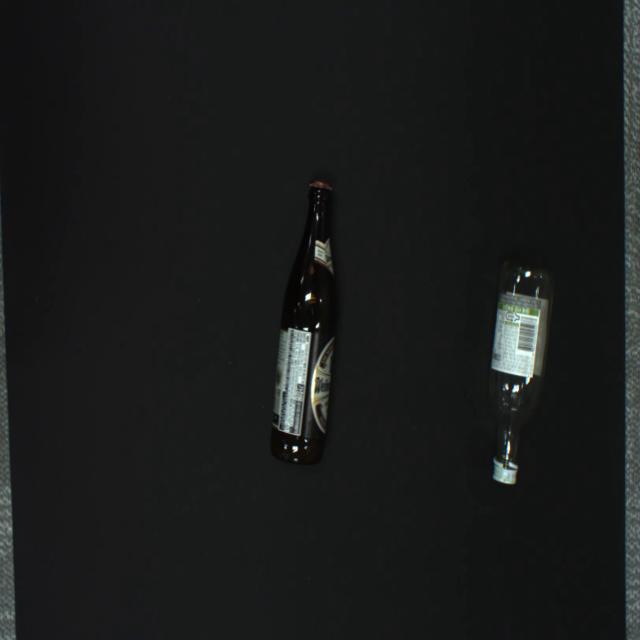beer-bottle: (271, 182, 336, 464)
soju-bottle: (488, 263, 554, 484)
